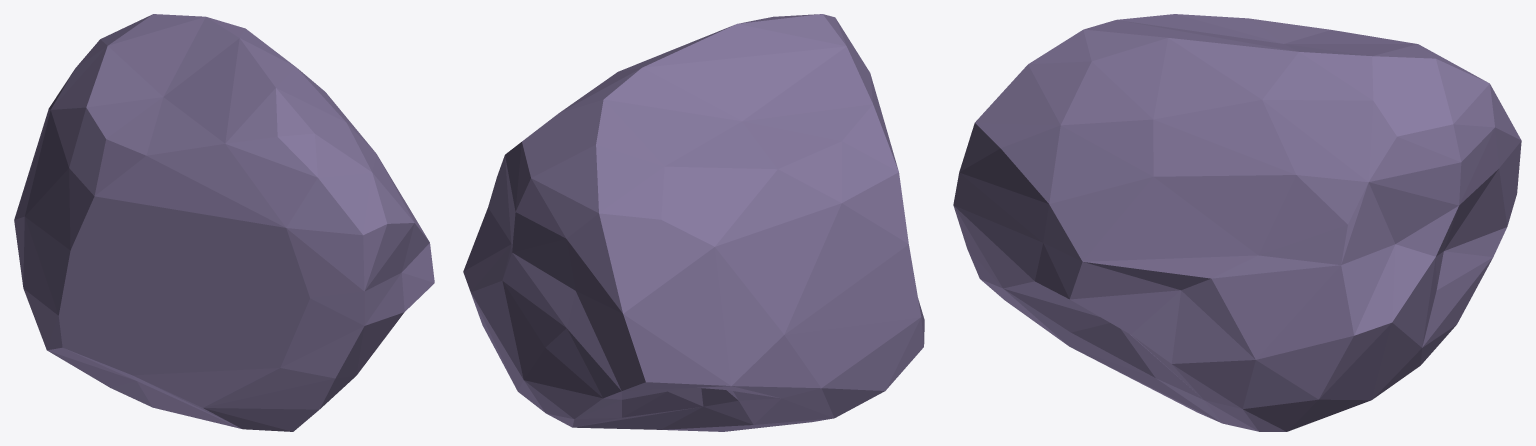
The model's file is Stoun4.fbx.
3 views of the same model, side by side, from view 1: azimuth 30°, elevation 25°; view 2: azimuth 150°, elevation 25°; view 3: azimuth 270°, elevation 25° (orthographic). The views are drawn at different scales.
Parts seen in each view (by area): view 1: Stoun4; view 2: Stoun4; view 3: Stoun4.
Boxes of the visible parts, x1=… form: Stoun4: x1=14, y1=14, x2=434, y2=431; Stoun4: x1=463, y1=14, x2=924, y2=431; Stoun4: x1=953, y1=14, x2=1521, y2=431.
Bounding box in the file's own units: 48.64 × 44.68 × 63.2.
